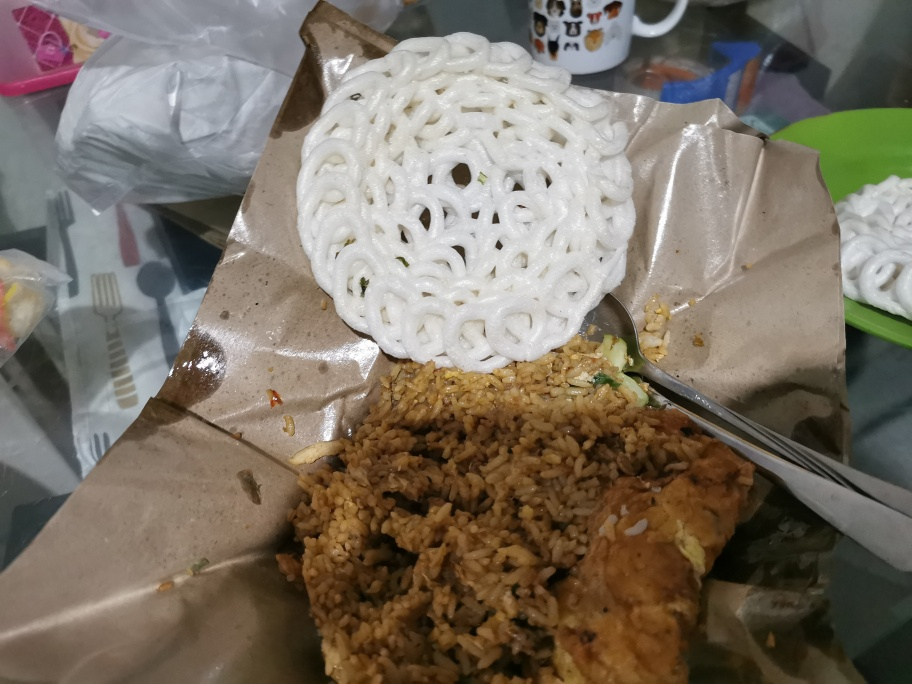kerupuk: (299, 34, 636, 349)
nasi goreng: (304, 357, 750, 684)
